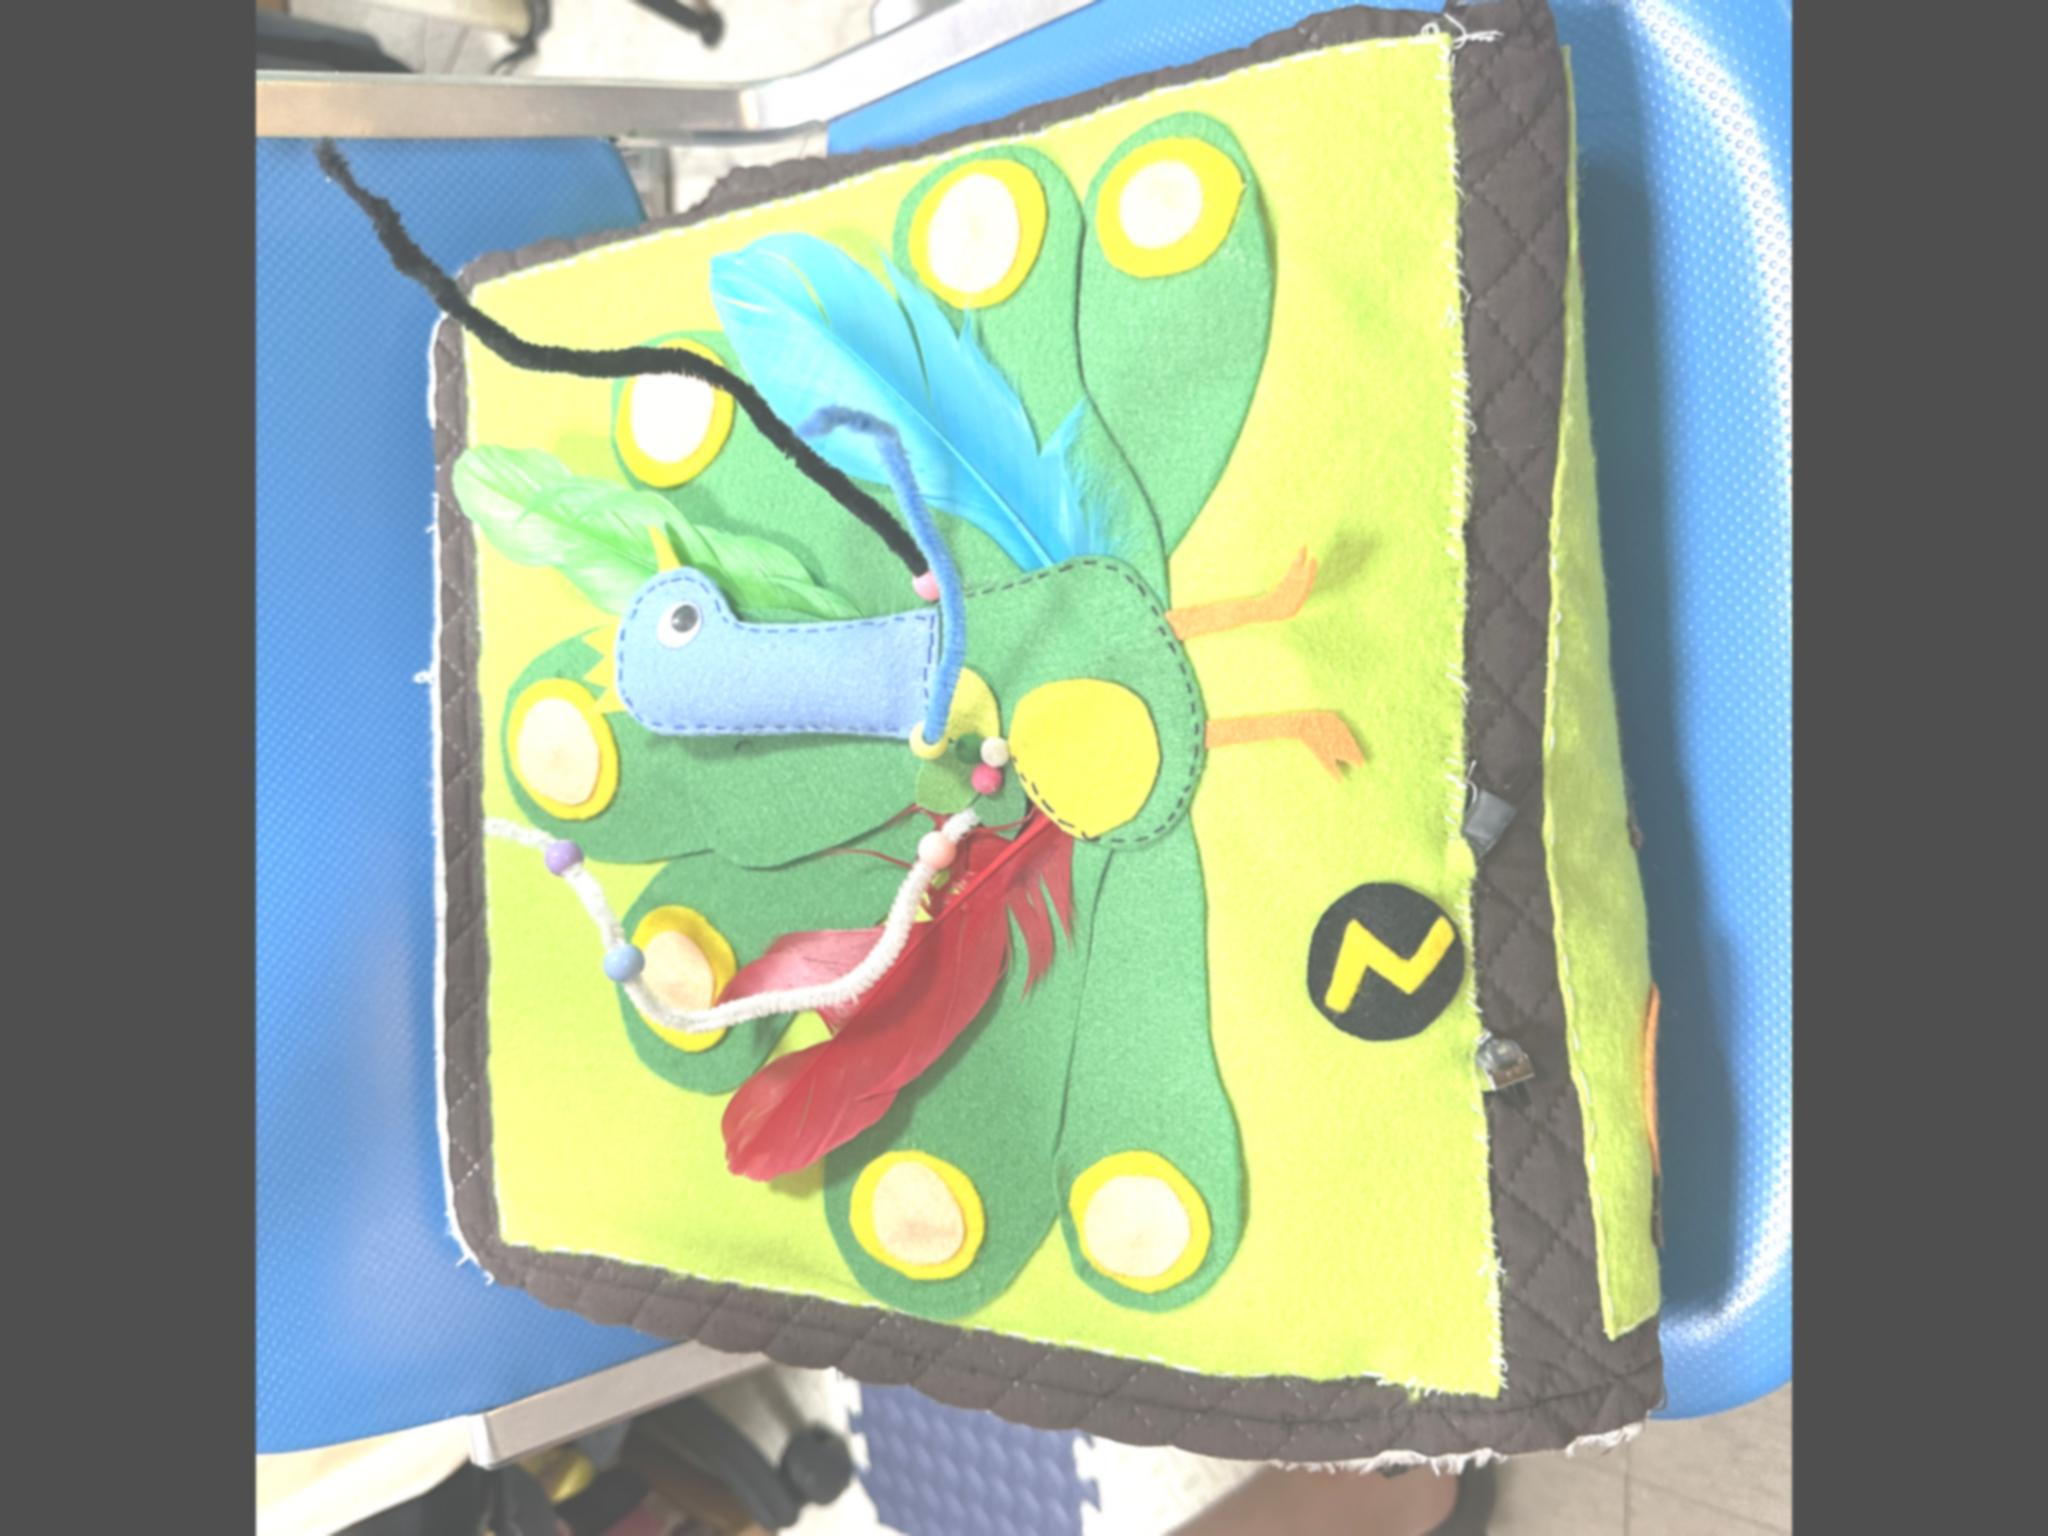bead: (889, 821, 969, 883), (574, 939, 650, 997), (889, 552, 964, 610), (534, 821, 593, 889), (893, 715, 958, 770)
